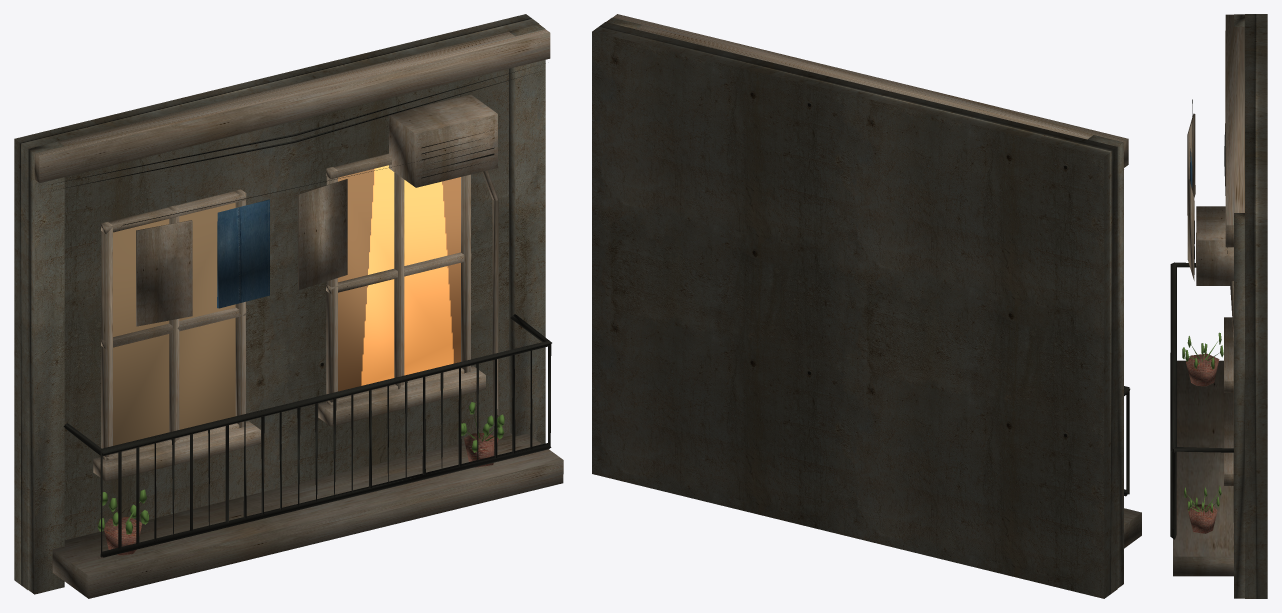
Rendered from mat_tien_tang_04_lod1.glb.
3 views of the same model, side by side, from view 1: azimuth 30°, elevation 25°; view 2: azimuth 150°, elevation 25°; view 3: azimuth 270°, elevation 25° (orthographic). The views are drawn at different scales.
Visible parts, largest first — view 1: mat_tien_tang_04.001; view 2: mat_tien_tang_04.001; view 3: mat_tien_tang_04.001.
Boxes of the visible parts, x1,y1,x2,y2 form: mat_tien_tang_04.001: [14, 14, 563, 598]; mat_tien_tang_04.001: [592, 14, 1141, 598]; mat_tien_tang_04.001: [1170, 14, 1267, 598].
Bounding box in the file's own units: 4 × 3.3 × 0.7776.
3 materials, 2 textured.
